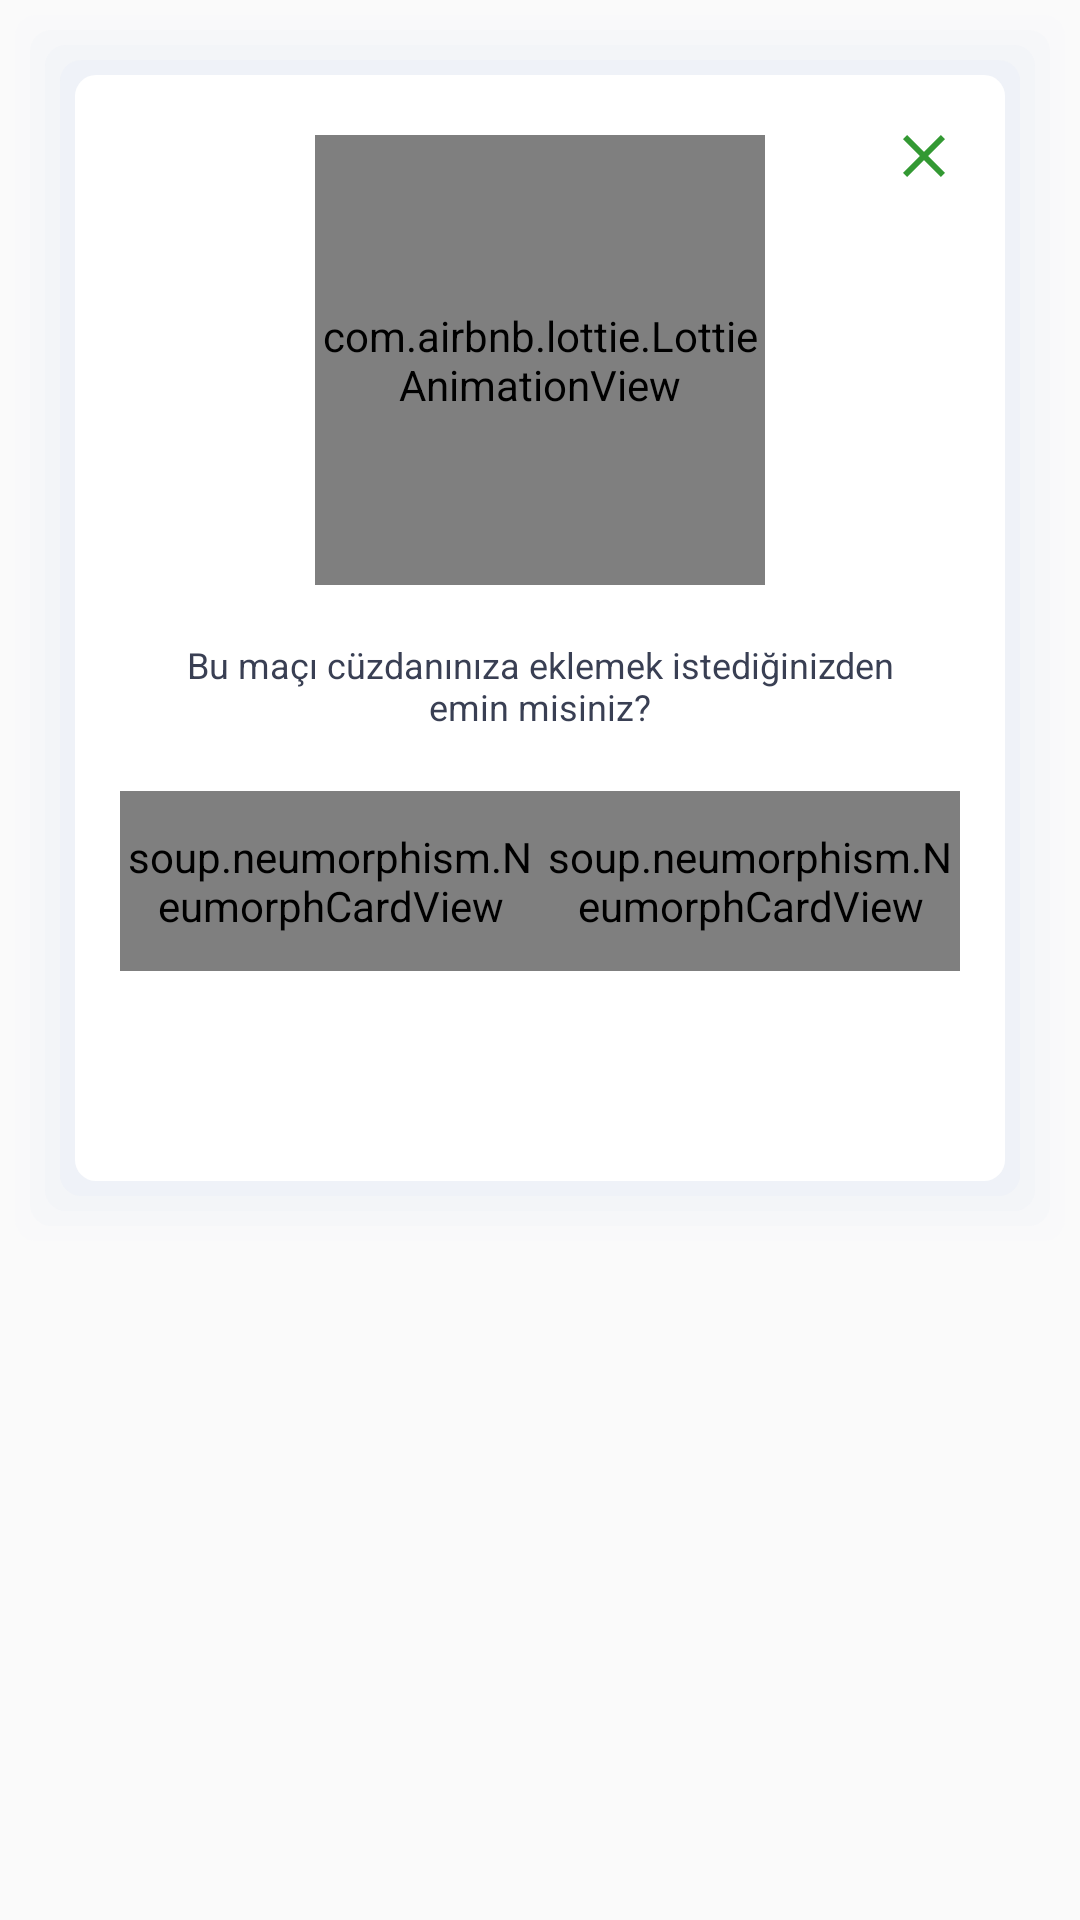

Screen size 1080x1920. Icon name, then its center in pixels as point (x, y):
cancel: point (924, 156)
